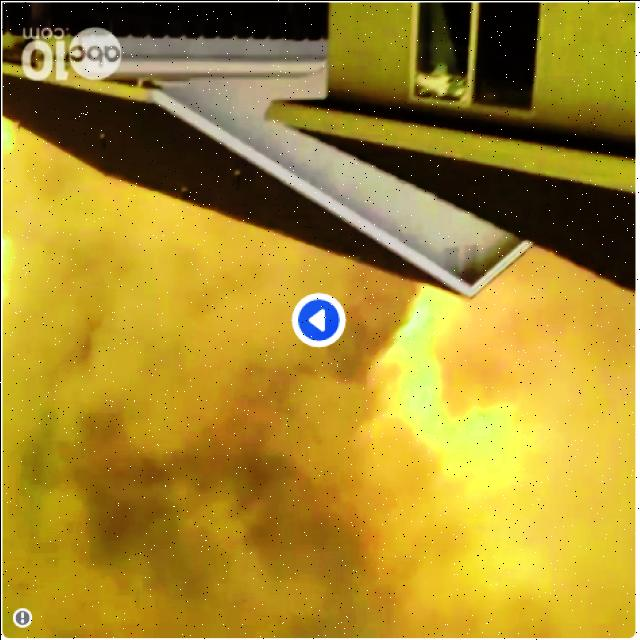asap: (1, 118, 420, 640), (353, 301, 640, 640)
